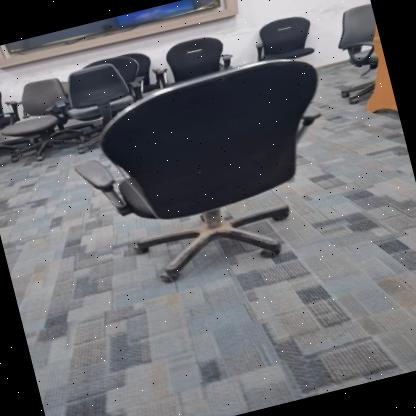chair: (52, 40, 365, 308), (0, 70, 83, 167), (245, 5, 322, 84)
